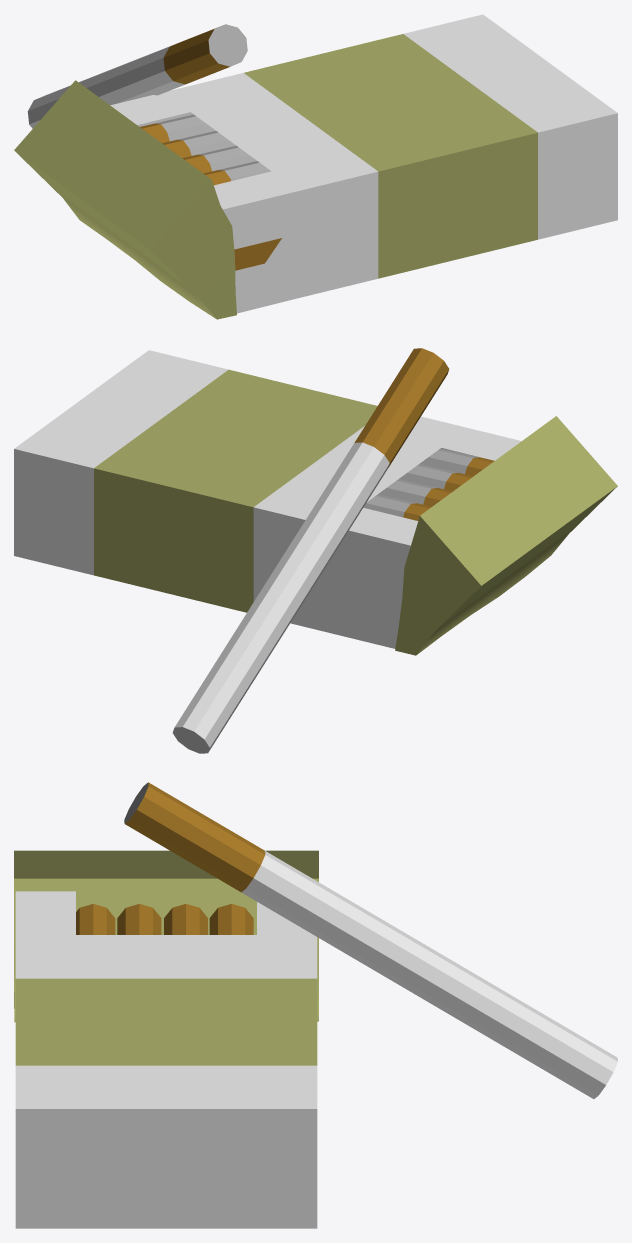
File: cigarette.fbx
3 views of the same model, one above another, from view 1: azimuth 30°, elevation 25°; view 2: azimuth 150°, elevation 25°; view 3: azimuth 270°, elevation 25° (orthographic). The views are drawn at different scales.
Visible parts, largest first — view 1: polySurface4, polySurface7, polySurface8, polySurface5, polySurface9, polySurface6; view 2: polySurface4, polySurface7, polySurface3, polySurface6, polySurface1, polySurface5; view 3: polySurface4, polySurface7, polySurface6, polySurface9, polySurface5, polySurface1.
Part boxes in pixels (x1,y1,x2,y2): polySurface4: [14, 14, 617, 319]; polySurface7: [27, 24, 247, 128]; polySurface8: [140, 114, 215, 142]; polySurface5: [182, 145, 256, 173]; polySurface9: [162, 131, 235, 157]; polySurface6: [203, 161, 270, 185]; polySurface4: [14, 350, 617, 655]; polySurface7: [172, 348, 449, 753]; polySurface3: [420, 448, 494, 476]; polySurface6: [378, 479, 452, 506]; polySurface1: [399, 464, 473, 491]; polySurface5: [363, 494, 431, 520]; polySurface4: [14, 850, 318, 1228]; polySurface7: [124, 782, 617, 1098]; polySurface6: [117, 904, 161, 934]; polySurface9: [209, 904, 253, 934]; polySurface5: [164, 904, 207, 934]; polySurface1: [76, 904, 115, 934].
Size of the model in its own units: 0.2846 by 0.1541 by 0.2845.
